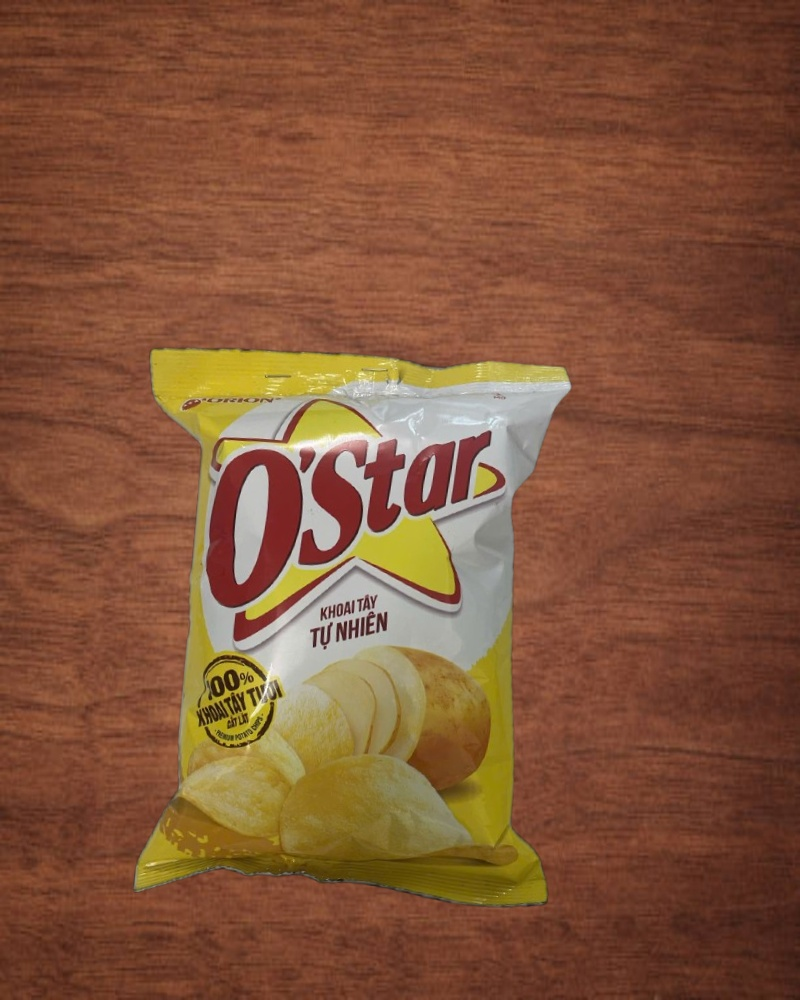O'star: (105, 331, 594, 928)
